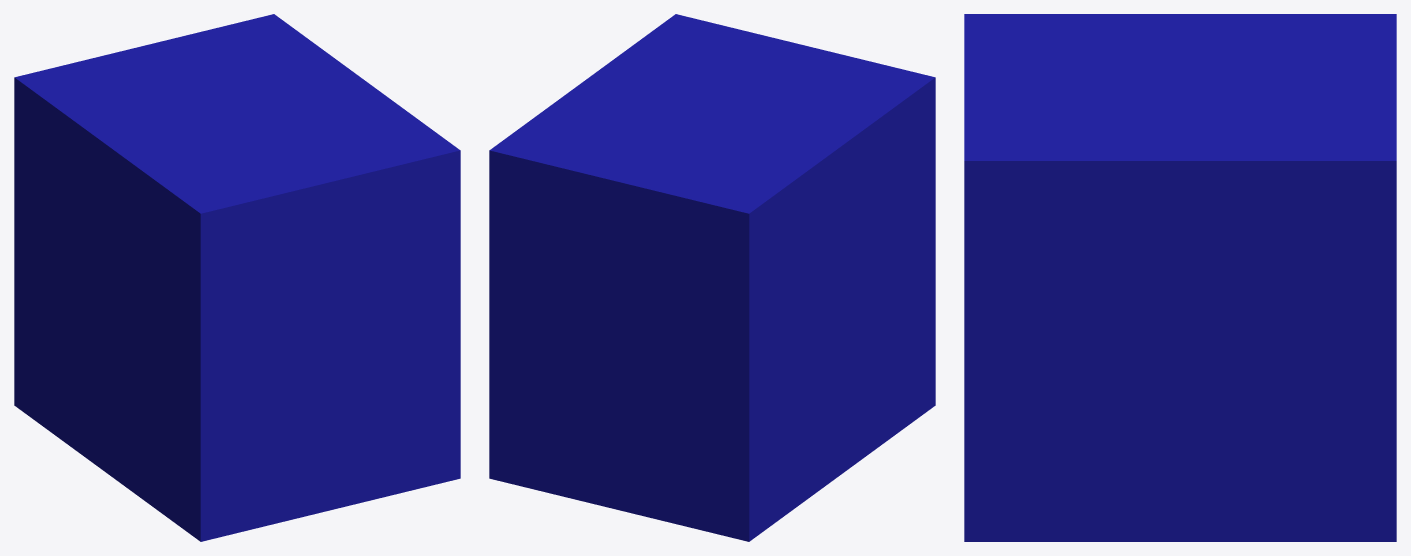
File: shed_3_broken.DAE
3 views of the same model, side by side, from view 1: azimuth 30°, elevation 25°; view 2: azimuth 150°, elevation 25°; view 3: azimuth 270°, elevation 25° (orthographic). The views are drawn at different scales.
Parts seen in each view (by area): view 1: bounds; view 2: bounds; view 3: bounds.
Boxes of the visible parts, x1,y1,x2,y2 form: bounds: [14, 14, 460, 541]; bounds: [489, 14, 935, 541]; bounds: [964, 14, 1396, 541].
Size of the model in its own units: 5.13 by 6.38 by 6.2.
